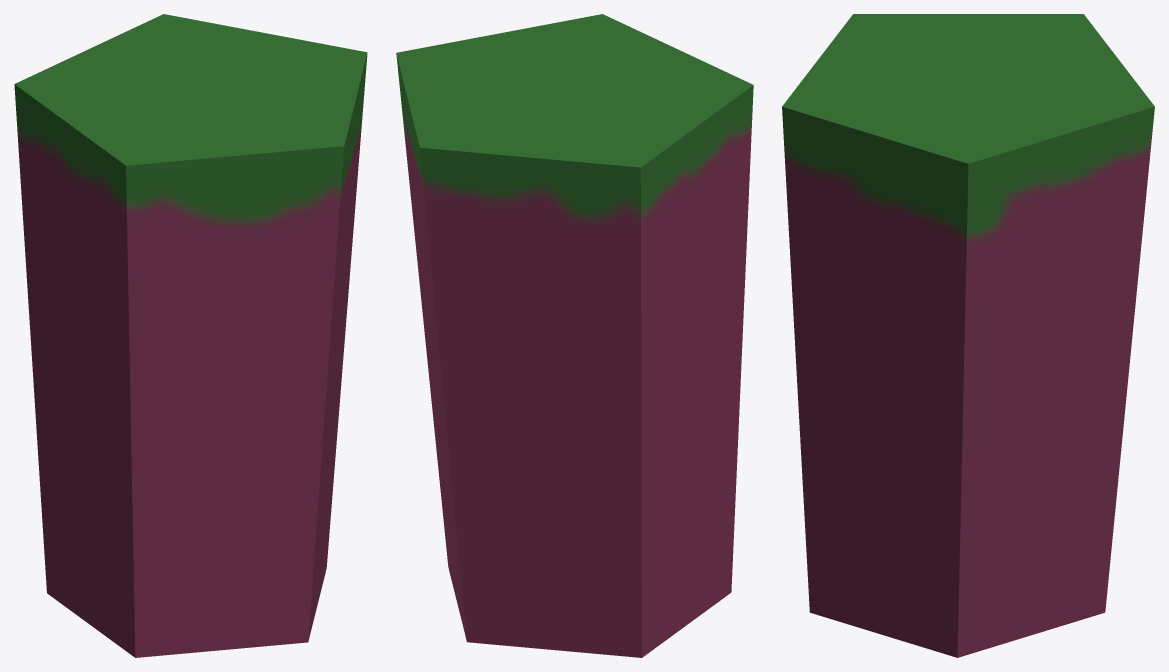
The model's file is basicPlatform.fbx.
3 views of the same model, side by side, from view 1: azimuth 30°, elevation 25°; view 2: azimuth 150°, elevation 25°; view 3: azimuth 270°, elevation 25° (orthographic). The views are drawn at different scales.
Parts seen in each view (by area): view 1: pCylinder1; view 2: pCylinder1; view 3: pCylinder1.
Boxes of the visible parts, bbox=[...] form: pCylinder1: bbox=[14, 14, 367, 657]; pCylinder1: bbox=[396, 14, 753, 657]; pCylinder1: bbox=[782, 14, 1154, 657].
Size of the model in its own units: 5.57 by 8.97 by 5.86.
